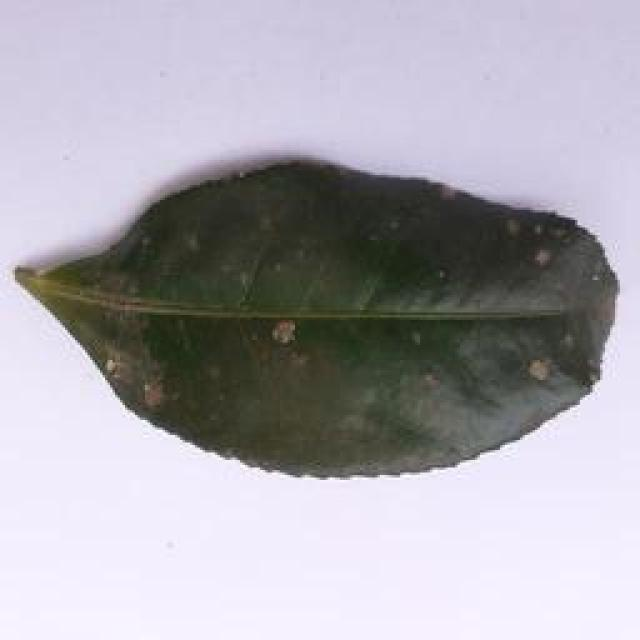Algal Leaf Spot: (14, 156, 627, 497)
